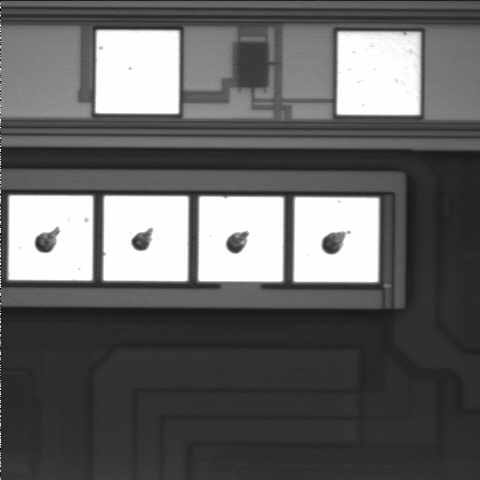pad: (198, 197, 284, 282), (8, 195, 93, 280), (103, 196, 188, 281), (294, 197, 379, 282), (96, 30, 179, 114), (337, 32, 420, 115)
